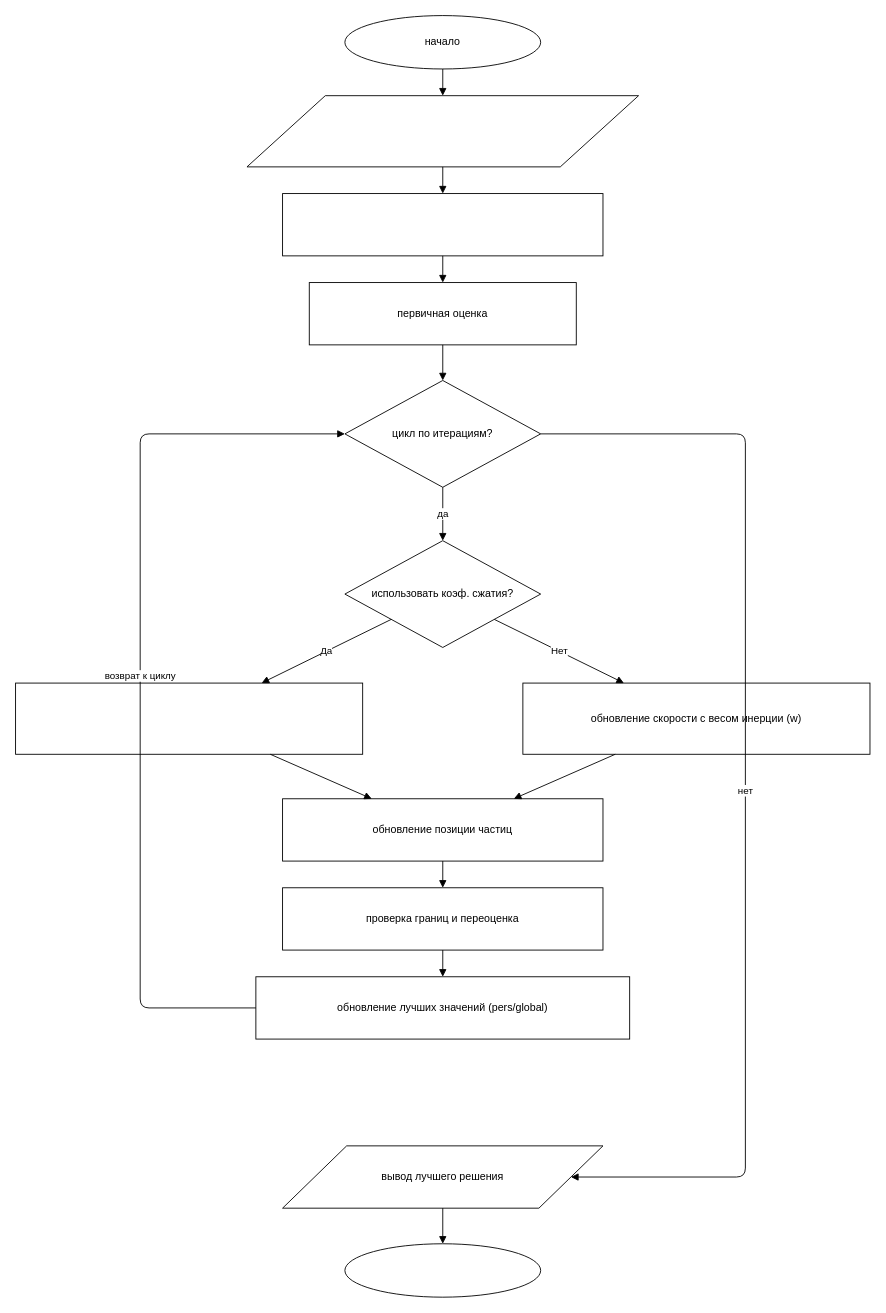
Some shapes in this 886 by 1313 pixel diagram are drawn without their labels. Each missing label, with the box of its shape:
ввод параметров и расчет chi (сжатие): (246, 95, 639, 167)
инициализация частиц роя: (282, 193, 603, 256)
конец: (344, 1243, 541, 1297)
обновление скорости с коэф. сжатия (chi): (15, 682, 363, 754)
